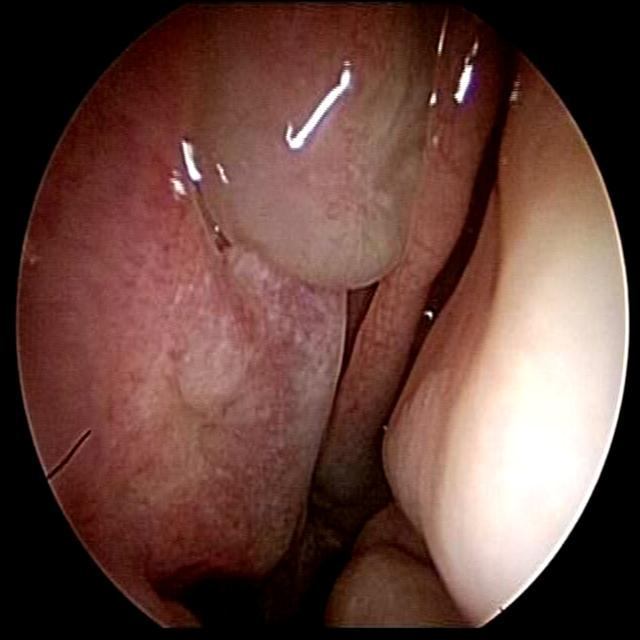OPENING: (306, 280, 385, 497)
POLYPS: (196, 0, 422, 290)
